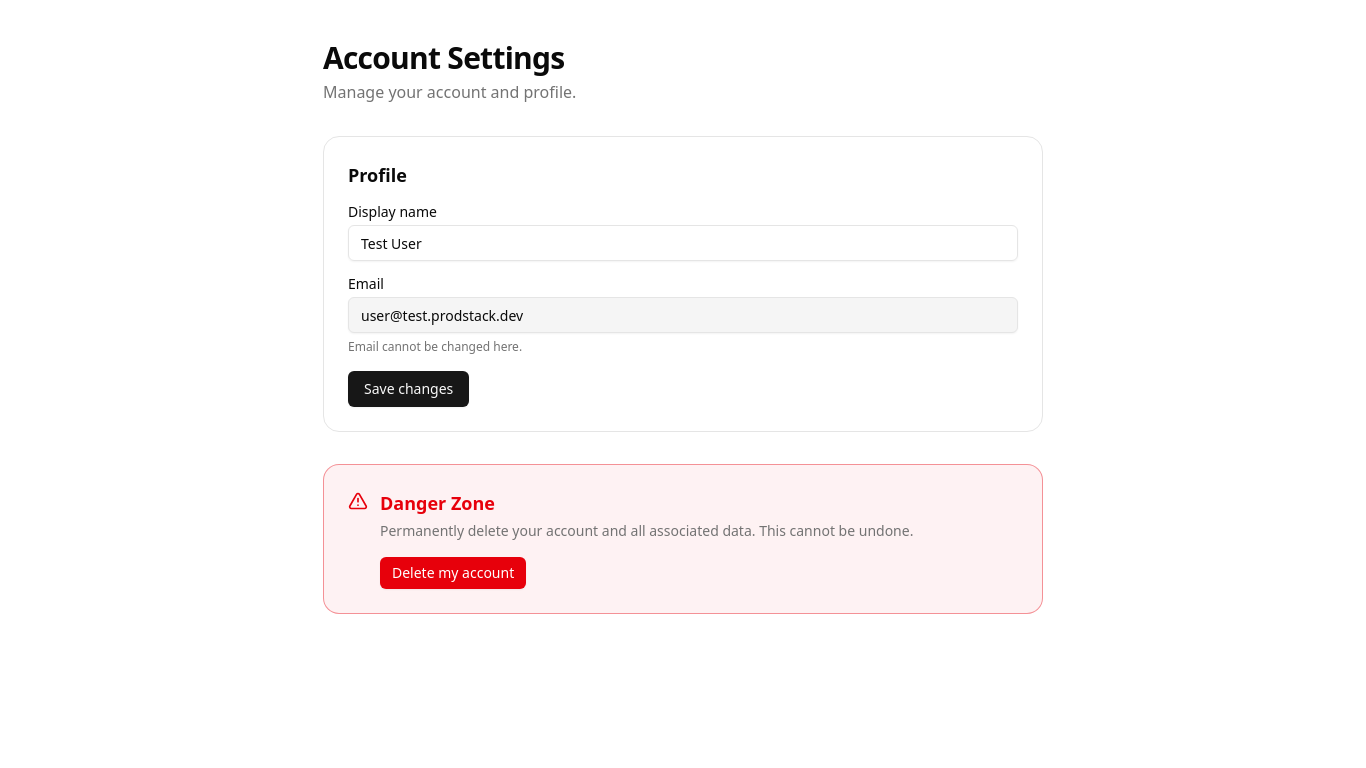
Test: SettingsPage › confirm button is disabled until correct email is typed
The width and height of the screenshot is (1366, 768).
Click the button "Delete my account" at {"x": 453, "y": 573}, box [380,557,526,589]
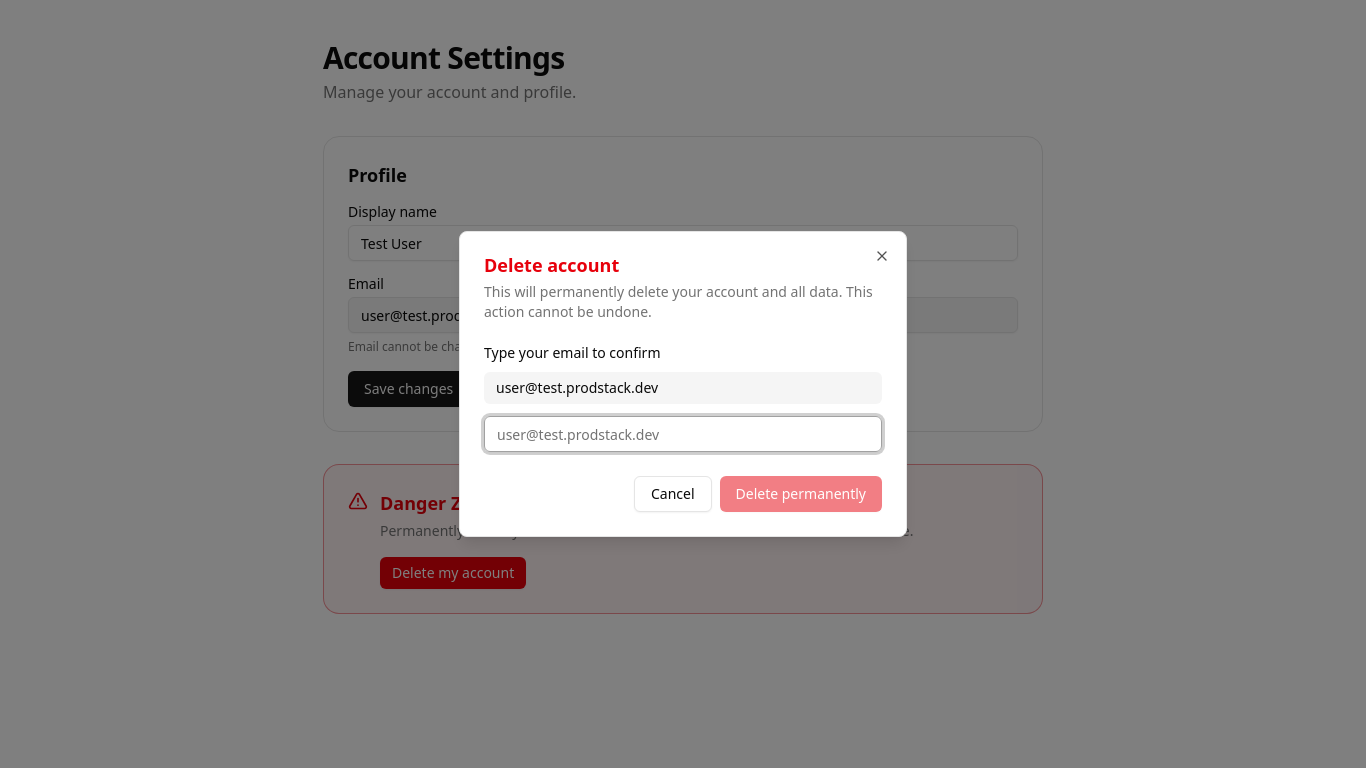
Expected: the dialog is shown, [459,231,907,537]
Expected: the button "Delete permanently" is disabled, [720,476,882,512]
Type "wrong@email.com" into the field labelled "Type your email to confirm" at {"x": 683, "y": 434}, box [484,416,882,452]
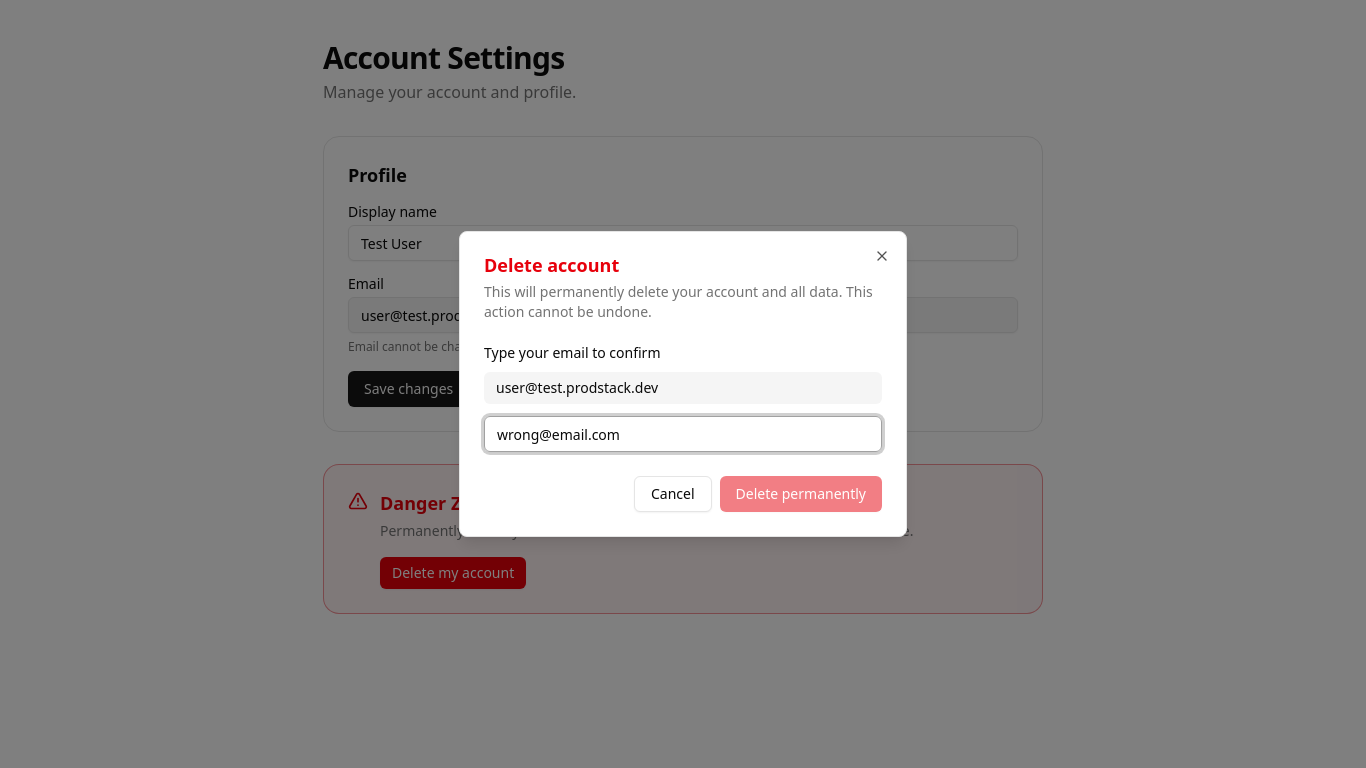
Expected: the button "Delete permanently" is disabled, [720,476,882,512]
Replace the text in the field labelled "Type your email to confirm" with "user@test.prodstack.dev" at {"x": 683, "y": 434}, box [484,416,882,452]
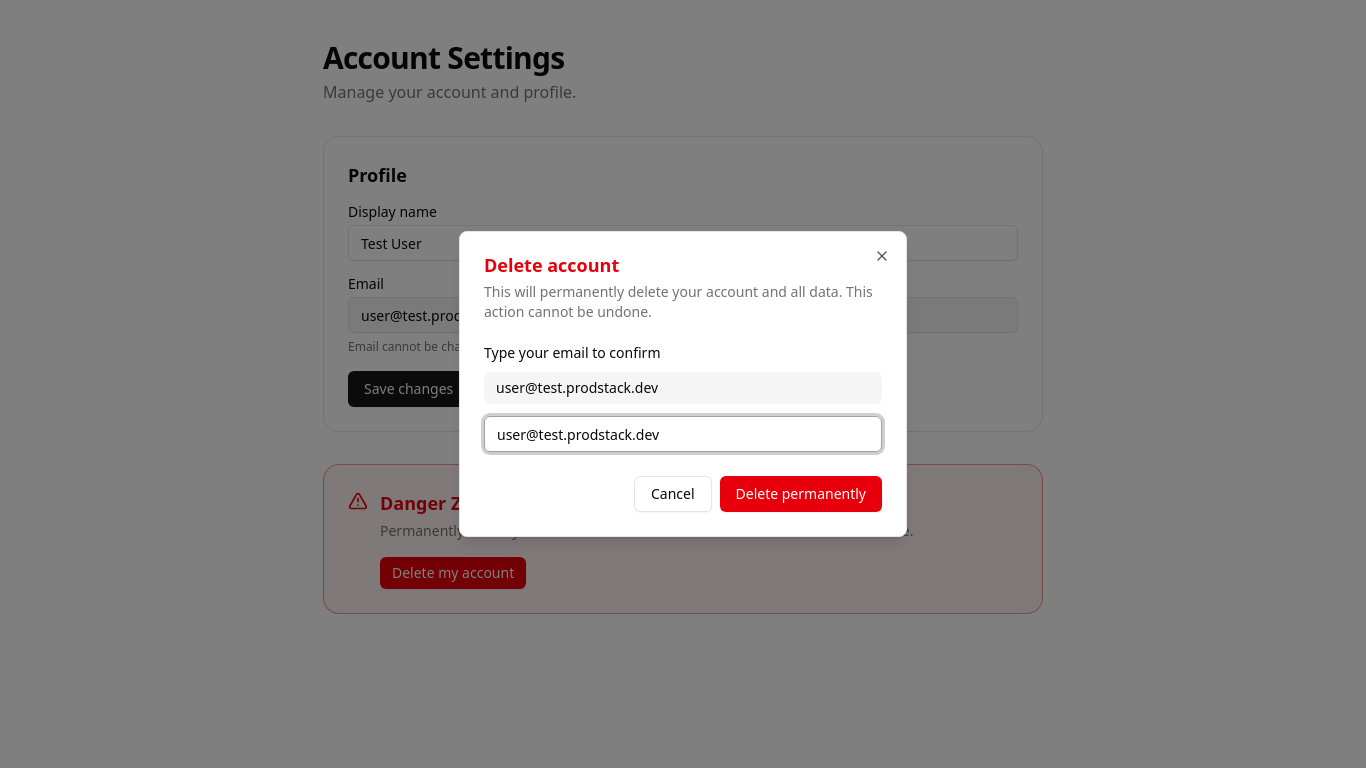
Expected: the button "Delete permanently" is enabled, [720,476,882,512]
